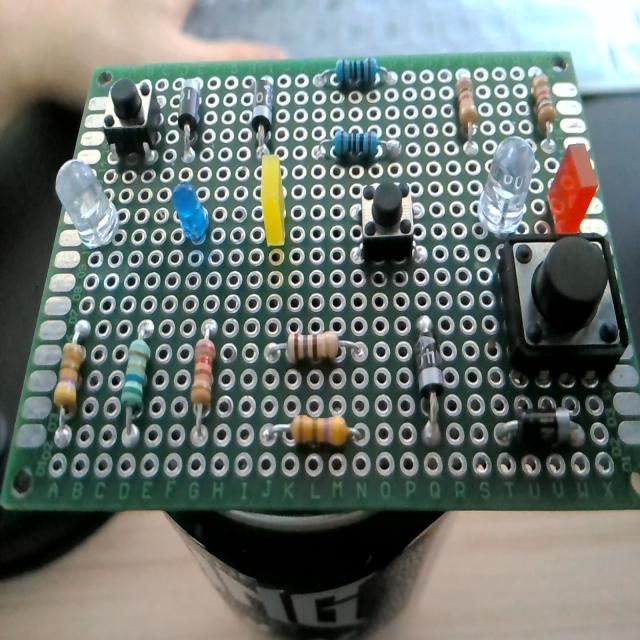diode: (414, 317, 446, 446), (496, 406, 582, 450), (248, 74, 276, 160), (176, 77, 202, 164)
led: (477, 137, 536, 238), (55, 159, 118, 248), (547, 142, 598, 235), (259, 154, 293, 259), (172, 180, 208, 243)
resistor: (119, 326, 151, 444), (270, 328, 364, 365), (190, 321, 219, 440), (267, 414, 362, 450), (316, 57, 395, 92), (54, 331, 86, 412), (454, 75, 479, 154), (330, 129, 380, 159), (532, 73, 554, 134)
switch: (497, 233, 627, 375), (102, 76, 162, 165), (360, 180, 419, 262)
